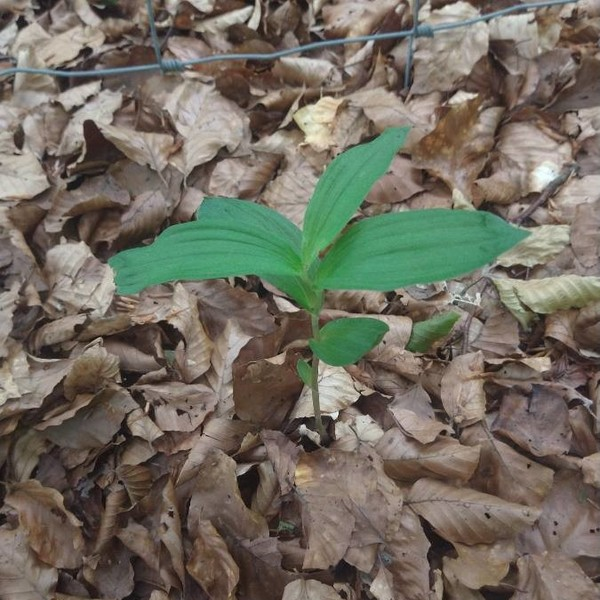obstacle: (88, 109, 533, 407)
